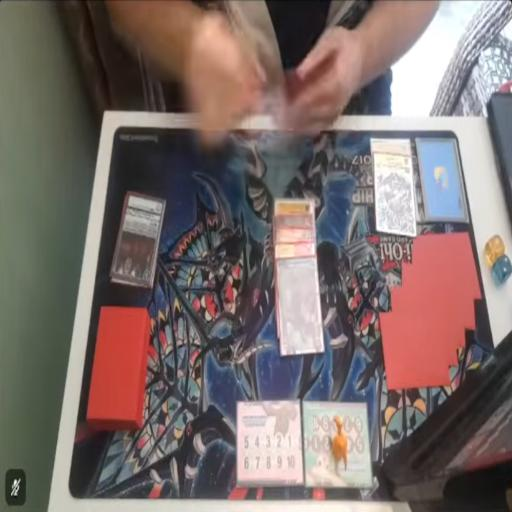card: (109, 195, 167, 288), (275, 258, 325, 357), (373, 154, 415, 237), (275, 239, 318, 260), (270, 196, 318, 214), (367, 137, 412, 154), (273, 225, 317, 242), (270, 214, 317, 226)
